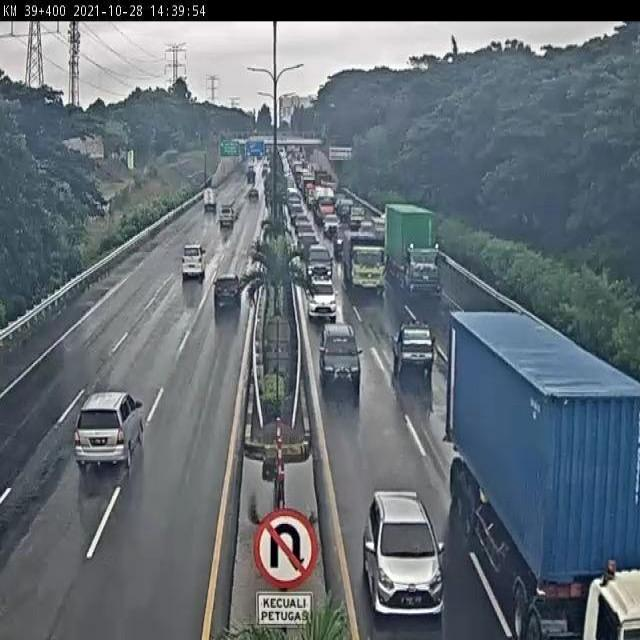big truck: (449, 312, 640, 640), (387, 205, 442, 291), (340, 229, 386, 288)
car: (362, 488, 448, 615), (72, 391, 142, 465), (320, 323, 361, 381), (392, 322, 434, 370), (308, 277, 336, 316), (179, 244, 206, 283), (214, 274, 242, 310), (306, 246, 331, 282), (297, 230, 318, 258), (218, 203, 236, 229)
